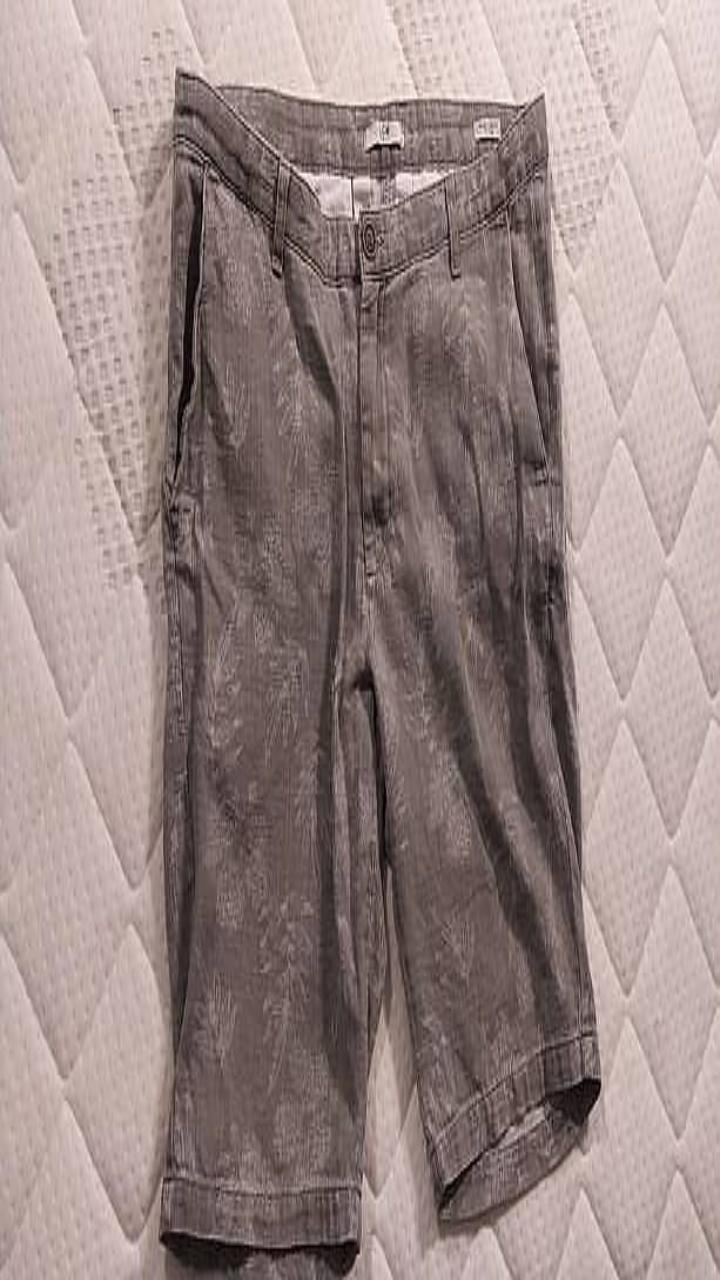Shorts: (160, 69, 600, 1274)
